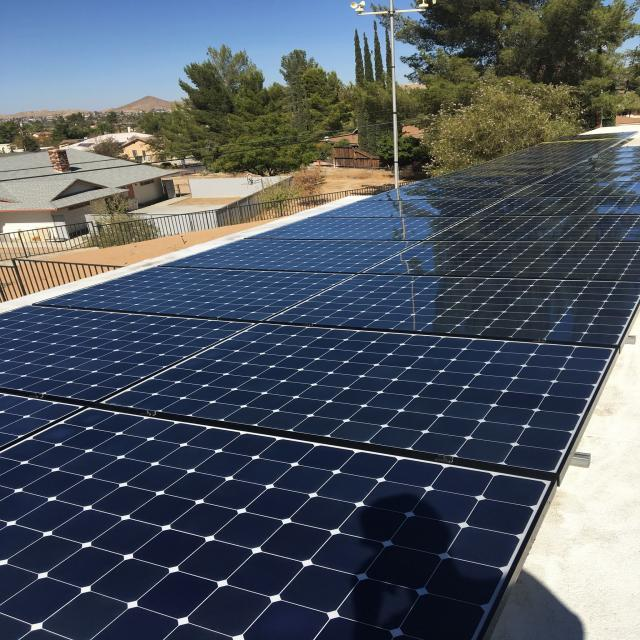clean-solar-panel: (312, 534, 382, 574)
